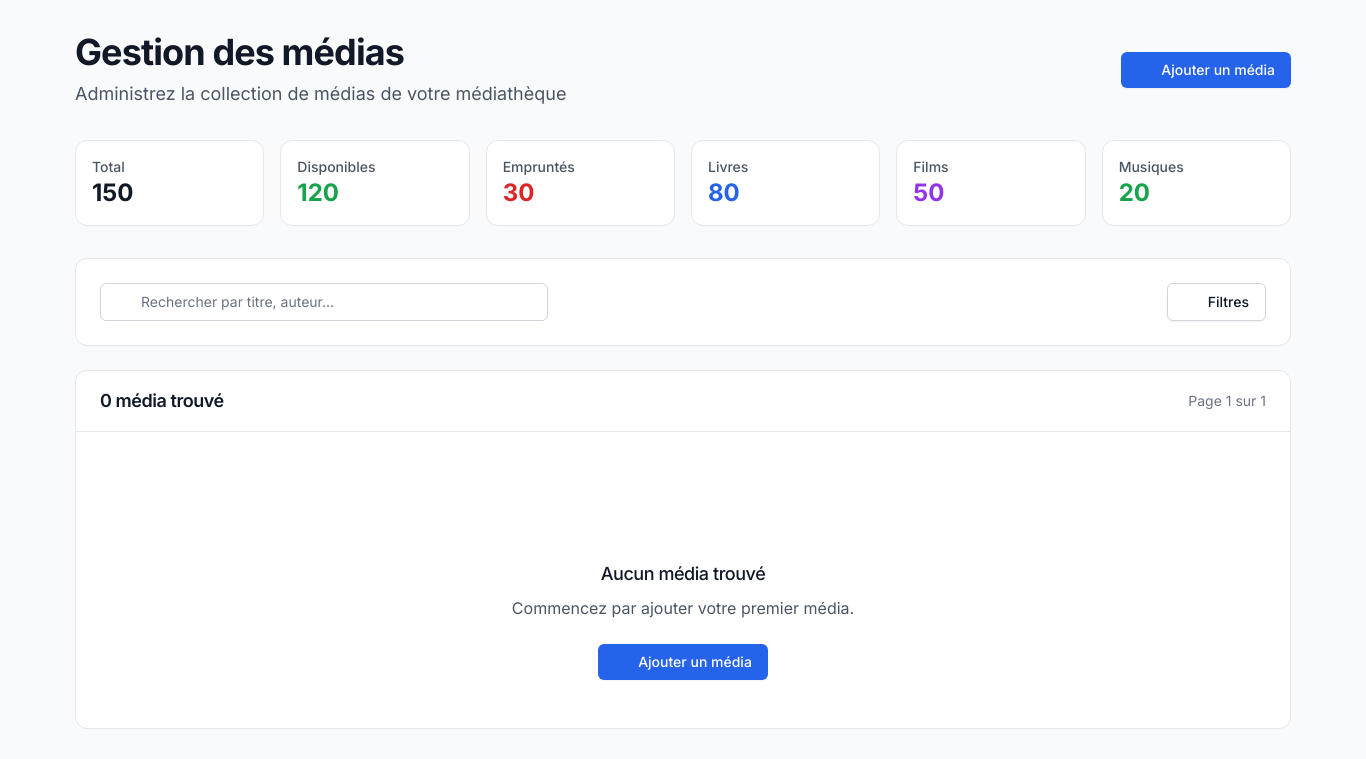
AdminMediaPage › États de chargement et erreurs › affiche le message d'absence de médias avec filtres actifs
Click the button with test id "filter-button": (1216, 302) top-left (1167, 283), bottom-right (1266, 321)
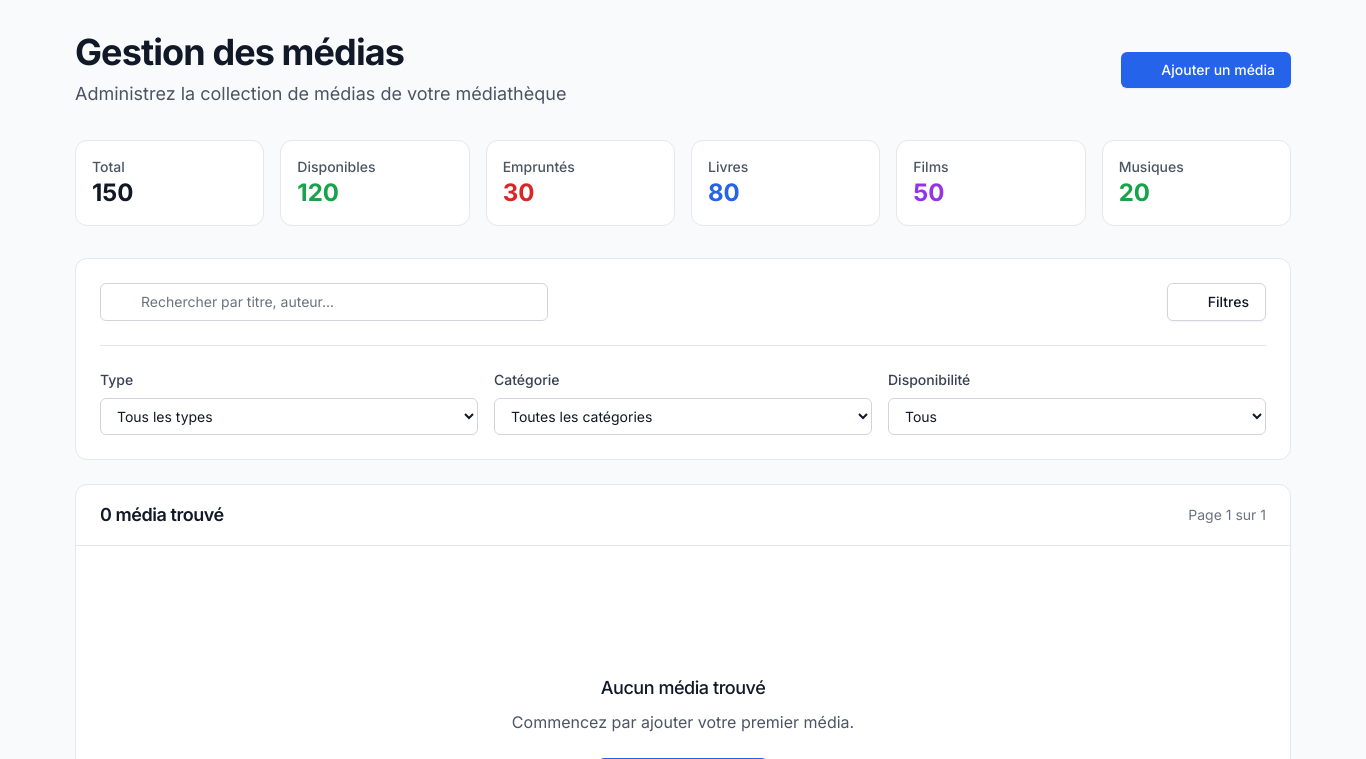
Select "Livre" in the dropdown with test id "type-filter": (289, 416) top-left (100, 398), bottom-right (478, 435)
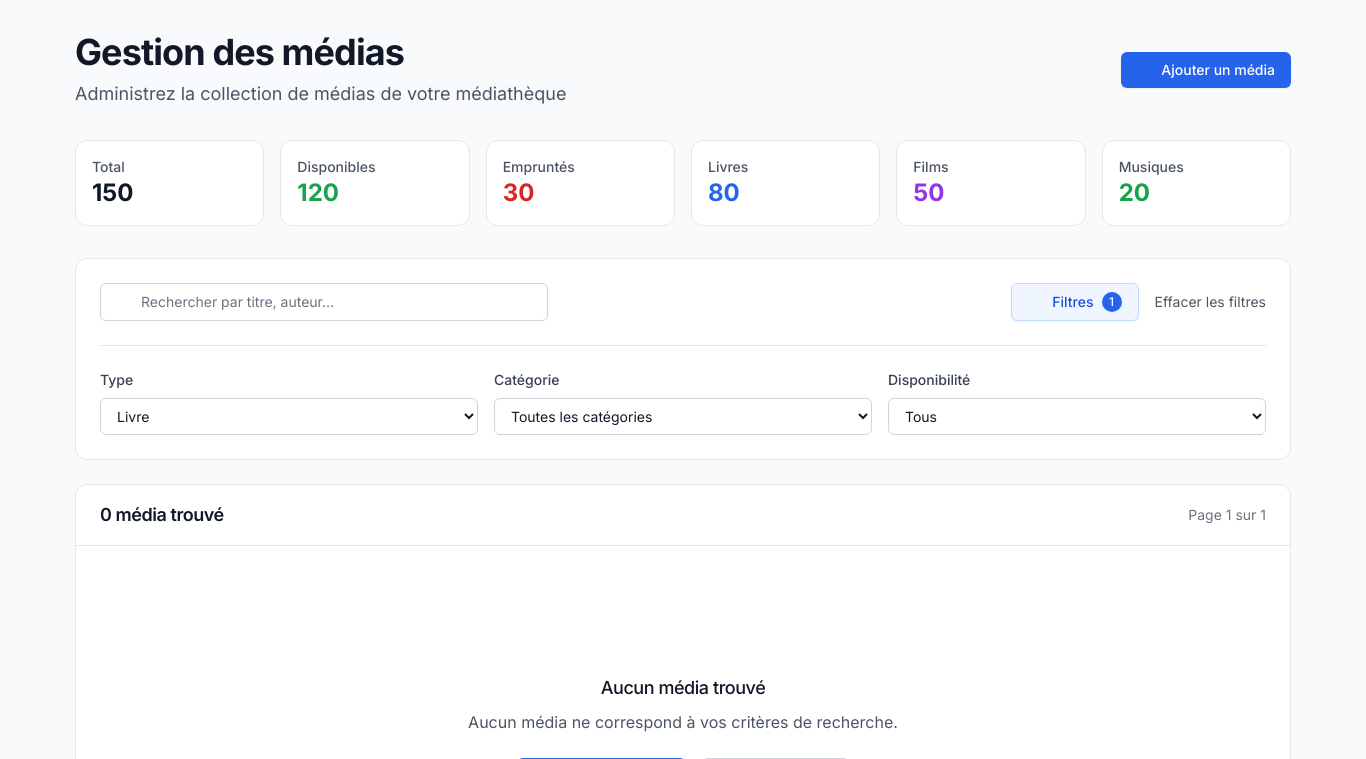
Expected: the heading "Aucun média trouvé" is shown, top-left (601, 677), bottom-right (765, 698)
Result: the text "Aucun média ne correspond à vos critères de recherche." is shown at top-left (468, 712), bottom-right (898, 732)
